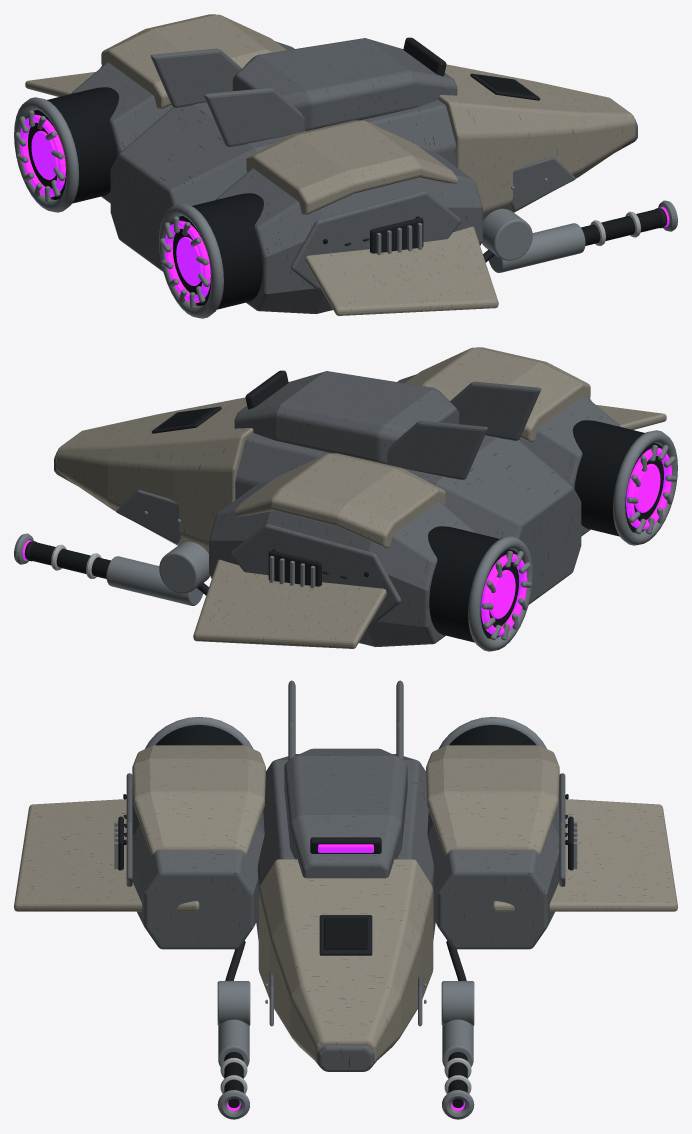
The model's file is gunship.glb.
The picture shows the model from 3 angles, top to bottom: view 1: azimuth 30°, elevation 25°; view 2: azimuth 150°, elevation 25°; view 3: azimuth 270°, elevation 25°; orthographic projection.
Parts seen in each view (by area): view 1: HEAVY_Gunship_V2_CONCEPT2_armor.001, HEAVY_Gunship_V2_CONCEPT2_ceramic.001, HEAVY_Gunship_V2_CONCEPT2_dark.001, HEAVY_Gunship_V2_CONCEPT2_steel.001, HEAVY_Gunship_V2_CONCEPT2_violet.001, HEAVY_Gunship_V2_CONCEPT2_rubber.001; view 2: HEAVY_Gunship_V2_CONCEPT2_armor.001, HEAVY_Gunship_V2_CONCEPT2_ceramic.001, HEAVY_Gunship_V2_CONCEPT2_dark.001, HEAVY_Gunship_V2_CONCEPT2_steel.001, HEAVY_Gunship_V2_CONCEPT2_violet.001, HEAVY_Gunship_V2_CONCEPT2_rubber.001; view 3: HEAVY_Gunship_V2_CONCEPT2_ceramic.001, HEAVY_Gunship_V2_CONCEPT2_armor.001, HEAVY_Gunship_V2_CONCEPT2_steel.001, HEAVY_Gunship_V2_CONCEPT2_dark.001, HEAVY_Gunship_V2_CONCEPT2_rubber.001, HEAVY_Gunship_V2_CONCEPT2_edge.001.
Boxes of the visible parts, box(x1,y1,x2,y2) form: HEAVY_Gunship_V2_CONCEPT2_armor.001: box(71, 38, 637, 313); HEAVY_Gunship_V2_CONCEPT2_ceramic.001: box(25, 14, 635, 315); HEAVY_Gunship_V2_CONCEPT2_dark.001: box(27, 74, 667, 309); HEAVY_Gunship_V2_CONCEPT2_steel.001: box(14, 97, 677, 318); HEAVY_Gunship_V2_CONCEPT2_violet.001: box(20, 114, 669, 302); HEAVY_Gunship_V2_CONCEPT2_rubber.001: box(344, 37, 666, 262); HEAVY_Gunship_V2_CONCEPT2_armor.001: box(54, 371, 620, 646); HEAVY_Gunship_V2_CONCEPT2_ceramic.001: box(56, 347, 666, 648); HEAVY_Gunship_V2_CONCEPT2_dark.001: box(24, 407, 663, 642); HEAVY_Gunship_V2_CONCEPT2_steel.001: box(14, 430, 677, 651); HEAVY_Gunship_V2_CONCEPT2_violet.001: box(22, 447, 671, 635); HEAVY_Gunship_V2_CONCEPT2_rubber.001: box(25, 370, 347, 595); HEAVY_Gunship_V2_CONCEPT2_ceramic.001: box(14, 745, 677, 1061); HEAVY_Gunship_V2_CONCEPT2_armor.001: box(126, 680, 565, 1071); HEAVY_Gunship_V2_CONCEPT2_steel.001: box(114, 717, 577, 1119); HEAVY_Gunship_V2_CONCEPT2_dark.001: box(123, 725, 568, 1107); HEAVY_Gunship_V2_CONCEPT2_rubber.001: box(118, 814, 573, 980); HEAVY_Gunship_V2_CONCEPT2_edge.001: box(220, 1058, 471, 1093).
Size of the model in its own units: 1.56 by 0.6406 by 1.72.
Materials: 7 (3 with a texture image).
